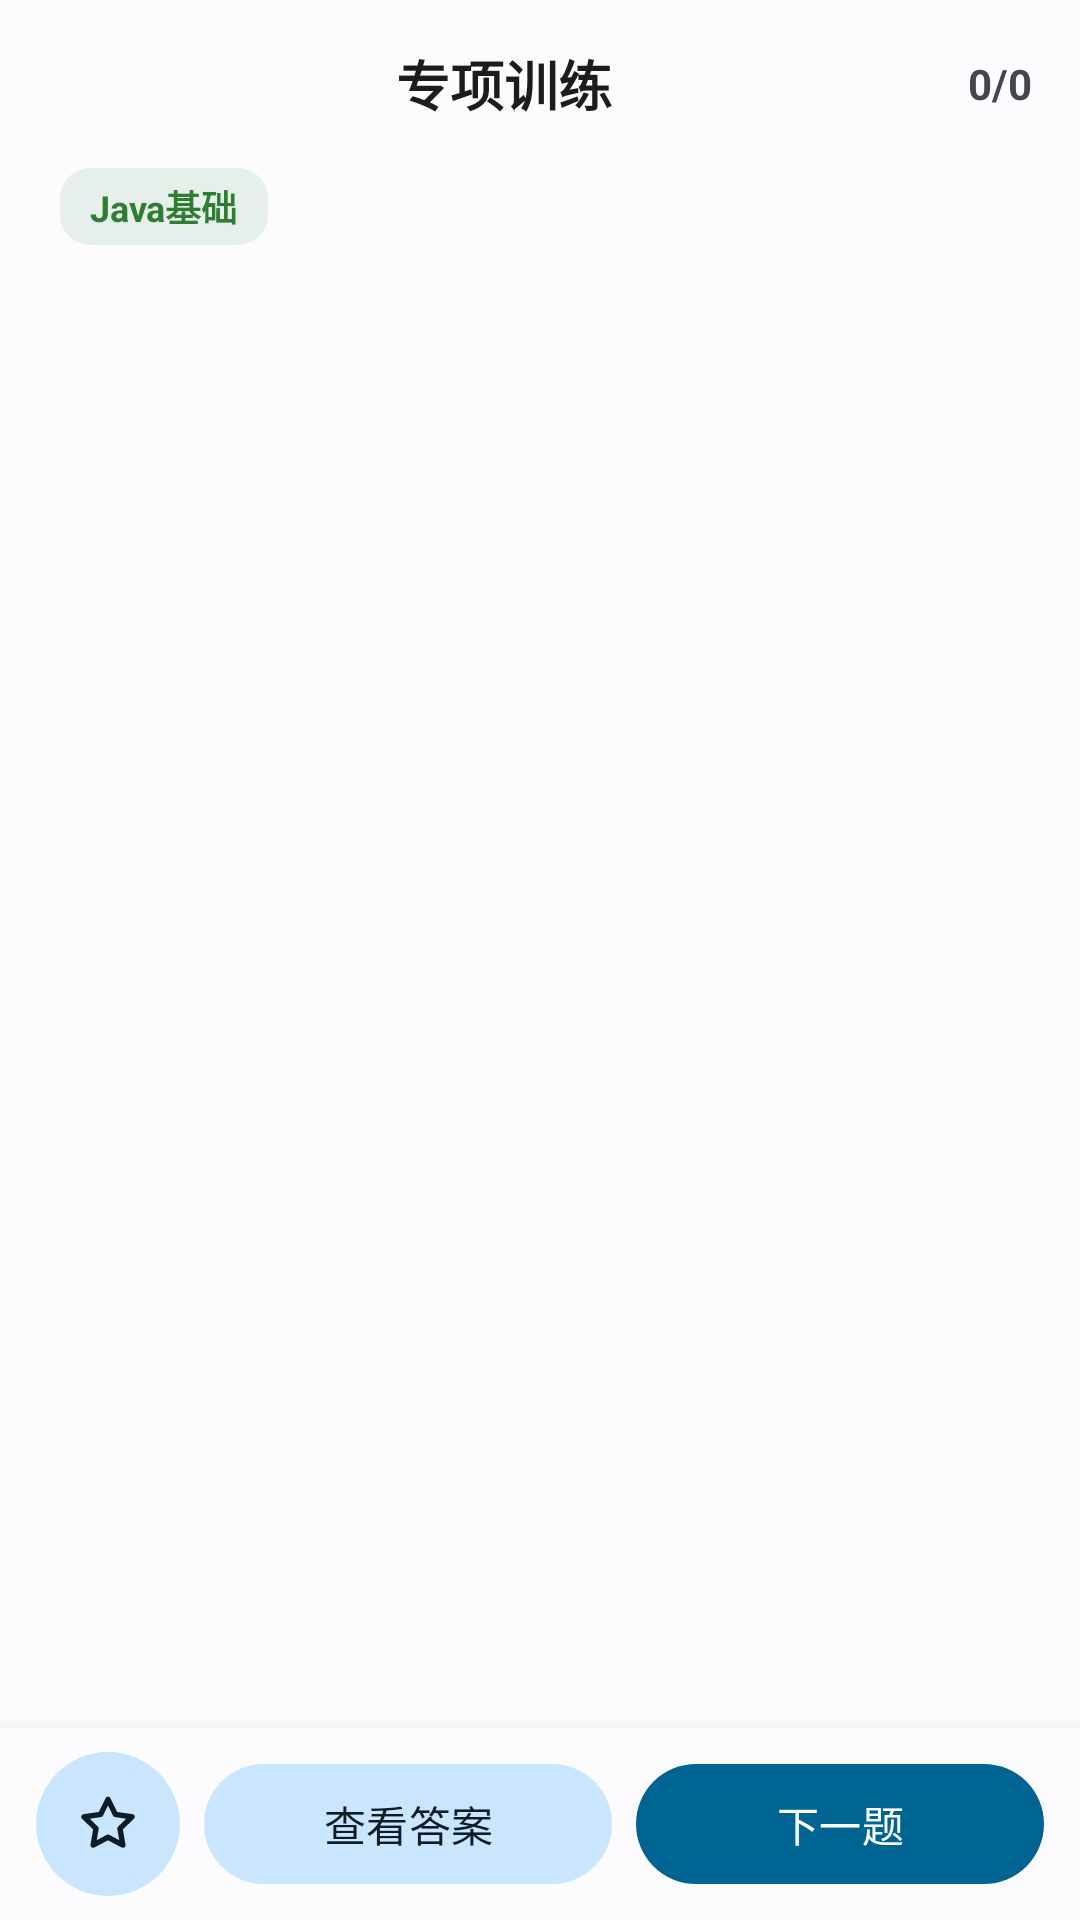

Locate icon controls on the screen. Image size 1080×1920, boxes as (x1, y1, x2, y2).
收藏: (36, 1752, 180, 1896)
